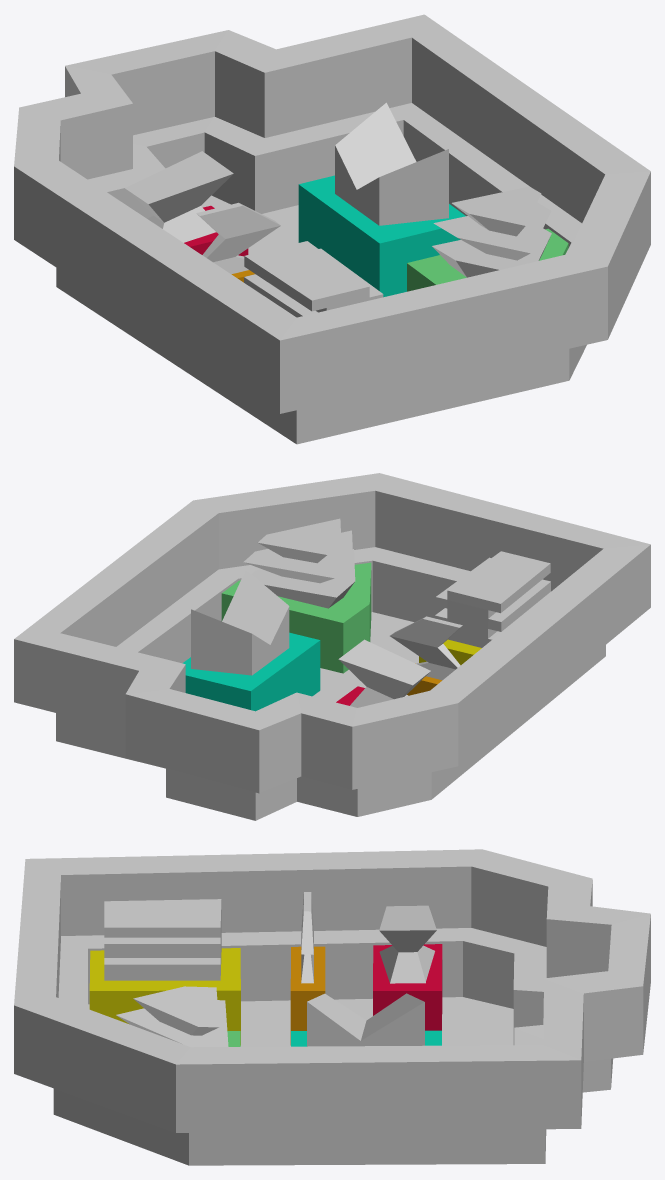
File: level3_3.fbx
3 views of the same model, one above another, from view 1: azimuth 30°, elevation 25°; view 2: azimuth 150°, elevation 25°; view 3: azimuth 270°, elevation 25° (orthographic). The views are drawn at different scales.
Visible parts, largest first — view 1: 3-3_upper_wall, 3-3_lower_wall, 3-3_pillar_aqua_top, 3-3_pillar_aqua, 3-3_pillar_green_top, 3-3_pillar_yellow_top, 3-3_pillar_red_top, 3-3_pillar_orange_top, 3-3_pillar_green, 3-3_floor; view 2: 3-3_upper_wall, 3-3_lower_wall, 3-3_pillar_aqua_top, 3-3_pillar_green_top, 3-3_pillar_yellow_top, 3-3_pillar_aqua, 3-3_pillar_green, 3-3_pillar_red_top, 3-3_pillar_orange_top, 3-3_floor, 3-3_pillar_yellow; view 3: 3-3_upper_wall, 3-3_lower_wall, 3-3_pillar_yellow_top, 3-3_floor, 3-3_pillar_aqua_top, 3-3_pillar_green_top, 3-3_pillar_yellow, 3-3_pillar_red_top, 3-3_pillar_red, 3-3_pillar_orange, 3-3_pillar_orange_top, 3-3_pillar_aqua.
Part boxes in pixels (x1,y1,x2,y2): 3-3_upper_wall: (14, 14, 650, 413); 3-3_lower_wall: (56, 103, 586, 444); 3-3_pillar_aqua_top: (335, 102, 448, 225); 3-3_pillar_aqua: (298, 175, 465, 297); 3-3_pillar_green_top: (432, 186, 551, 277); 3-3_pillar_yellow_top: (244, 241, 383, 317); 3-3_pillar_red_top: (125, 151, 233, 242); 3-3_pillar_orange_top: (196, 202, 280, 274); 3-3_pillar_green: (407, 228, 568, 291); 3-3_floor: (201, 195, 298, 254); 3-3_upper_wall: (14, 473, 650, 793); 3-3_lower_wall: (56, 547, 605, 820); 3-3_pillar_aqua_top: (191, 570, 289, 675); 3-3_pillar_green_top: (243, 518, 355, 608); 3-3_pillar_yellow_top: (435, 551, 550, 647); 3-3_pillar_aqua: (182, 632, 320, 711); 3-3_pillar_green: (221, 562, 371, 673); 3-3_pillar_red_top: (338, 639, 430, 707); 3-3_pillar_orange_top: (390, 616, 462, 680); 3-3_floor: (312, 612, 418, 702); 3-3_pillar_yellow: (419, 639, 481, 665); 3-3_upper_wall: (14, 849, 650, 1132); 3-3_lower_wall: (53, 928, 613, 1165); 3-3_pillar_yellow_top: (104, 899, 221, 980); 3-3_floor: (88, 997, 513, 1046); 3-3_pillar_aqua_top: (307, 993, 424, 1046); 3-3_pillar_green_top: (116, 986, 228, 1047); 3-3_pillar_yellow: (89, 948, 240, 1045); 3-3_pillar_red_top: (379, 905, 436, 983); 3-3_pillar_red: (373, 944, 442, 1030); 3-3_pillar_orange: (290, 946, 325, 1045); 3-3_pillar_orange_top: (301, 892, 313, 983); 3-3_pillar_aqua: (291, 1030, 441, 1046).
Size of the model in its own units: 22.67 by 6 by 28.36.
